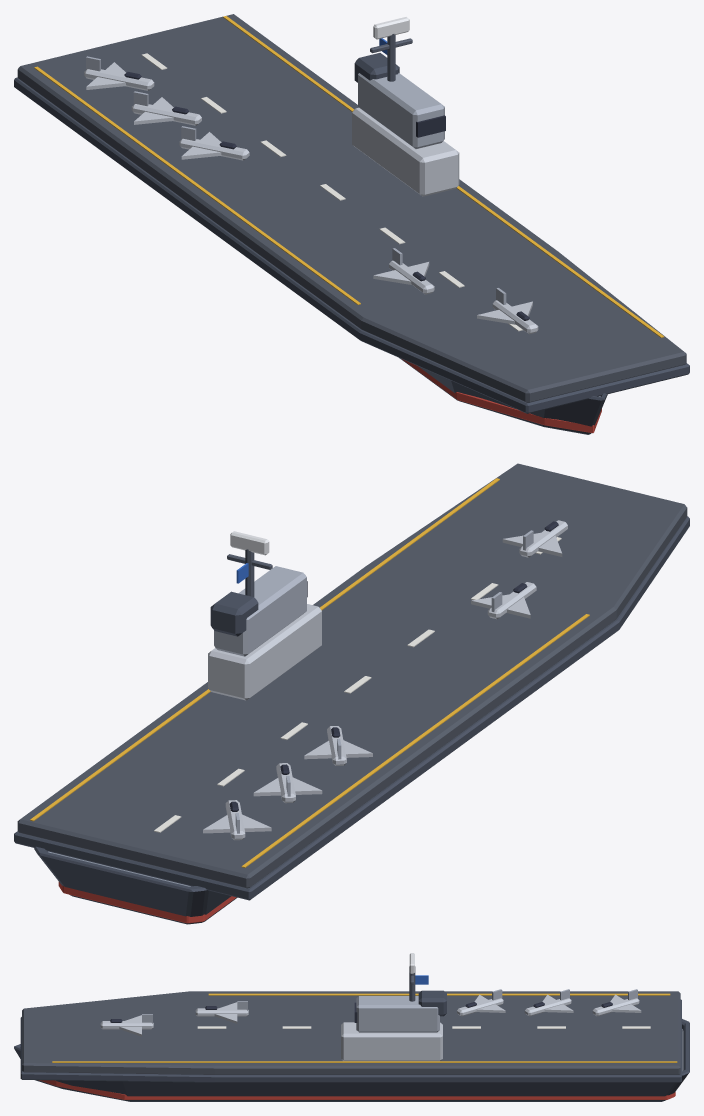
Rendered from porta-avioes.glb.
3 views of the same model, one above another, from view 1: azimuth 30°, elevation 25°; view 2: azimuth 150°, elevation 25°; view 3: azimuth 270°, elevation 25° (orthographic). The views are drawn at different scales.
Parts seen in each view (by area): view 1: porta-avioes; view 2: porta-avioes; view 3: porta-avioes.
Boxes of the visible parts, x1=… form: porta-avioes: x1=14, y1=14, x2=689, y2=434; porta-avioes: x1=14, y1=463, x2=689, y2=924; porta-avioes: x1=14, y1=953, x2=689, y2=1101.
Bounding box in the file's own units: 2.7 × 2.36 × 9.95.
